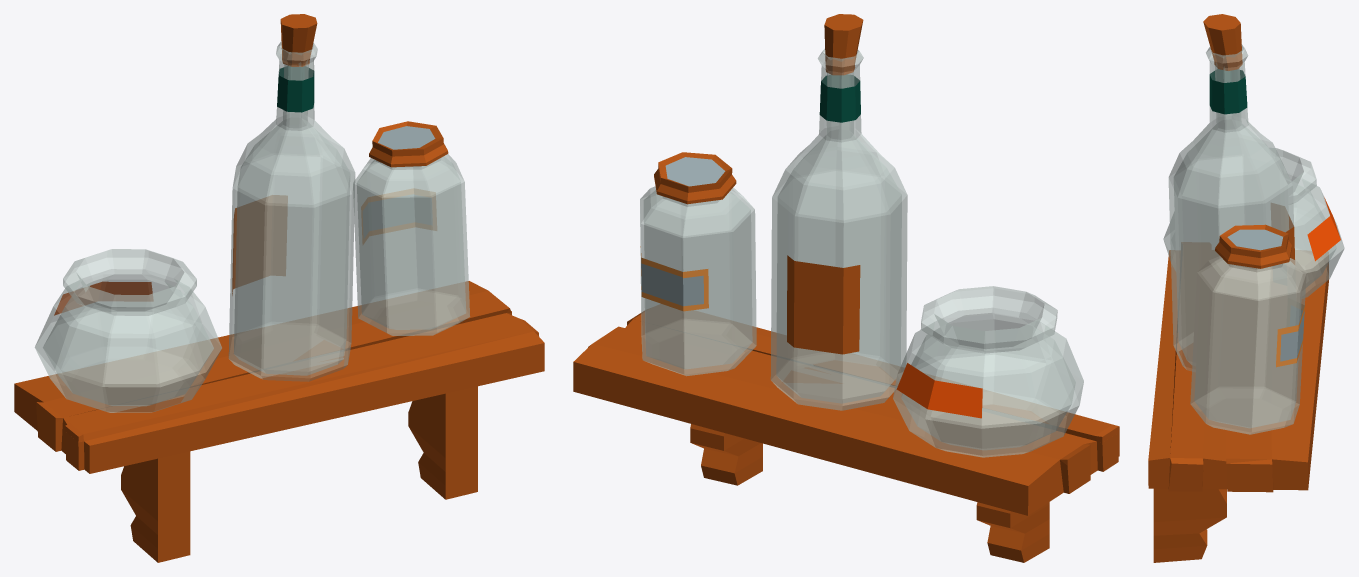
File: JarsSeprate.obj
The picture shows the model from 3 angles, left to right: view 1: azimuth 30°, elevation 25°; view 2: azimuth 150°, elevation 25°; view 3: azimuth 270°, elevation 25°; orthographic projection. The views are drawn at different scales.
Visible parts, largest first — view 1: group732647983.001, group732647983, group732647983.003, group732647983.002; view 2: group732647983.001, group732647983, group732647983.003, group732647983.002; view 3: group732647983.001, group732647983.002, group732647983, group732647983.003.
Boxes of the visible parts, box(x1,y1,x2,y2) form: group732647983.001: box(14, 281, 544, 562); group732647983: box(228, 14, 355, 381); group732647983.003: box(35, 249, 221, 412); group732647983.002: box(353, 121, 469, 335); group732647983.001: box(573, 311, 1119, 562); group732647983: box(770, 14, 907, 410); group732647983.003: box(893, 286, 1083, 457); group732647983.002: box(640, 152, 756, 375); group732647983.001: box(1148, 250, 1329, 562); group732647983.002: box(1190, 224, 1306, 434); group732647983: box(1168, 14, 1294, 370); group732647983.003: box(1163, 148, 1344, 298).
Size of the model in its own units: 0.7378 by 0.738 by 0.2782.
